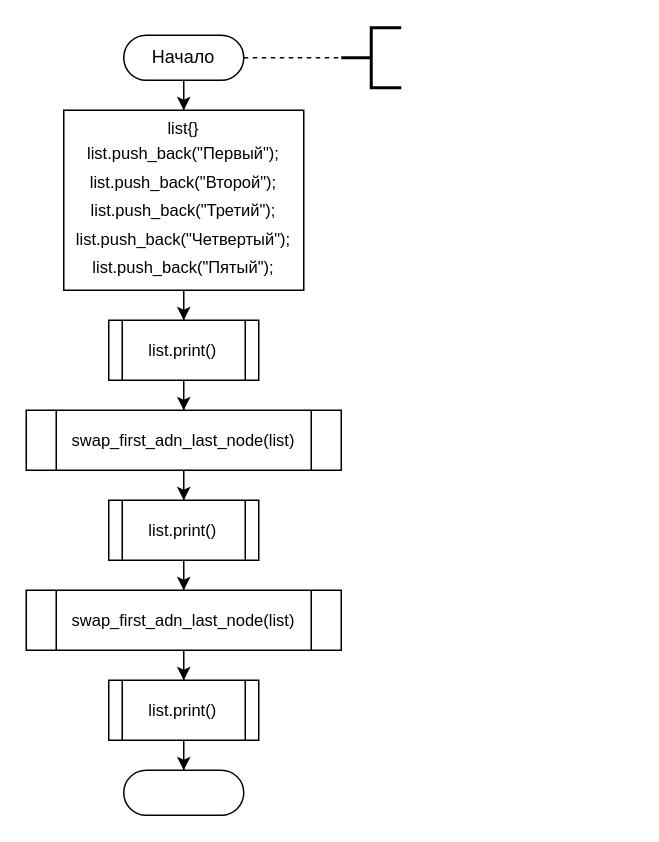
The diagram is 659 pixels wide and 842 high, and some of its shapes have lost their labels. Each missing label, with the centre of its shape:
main() // точка входа в программу: pixel 370 57
Конец: pixel 183 792
